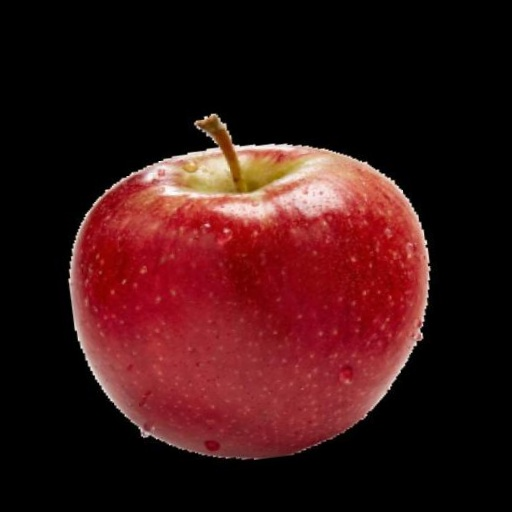fruit: (70, 117, 427, 457)
